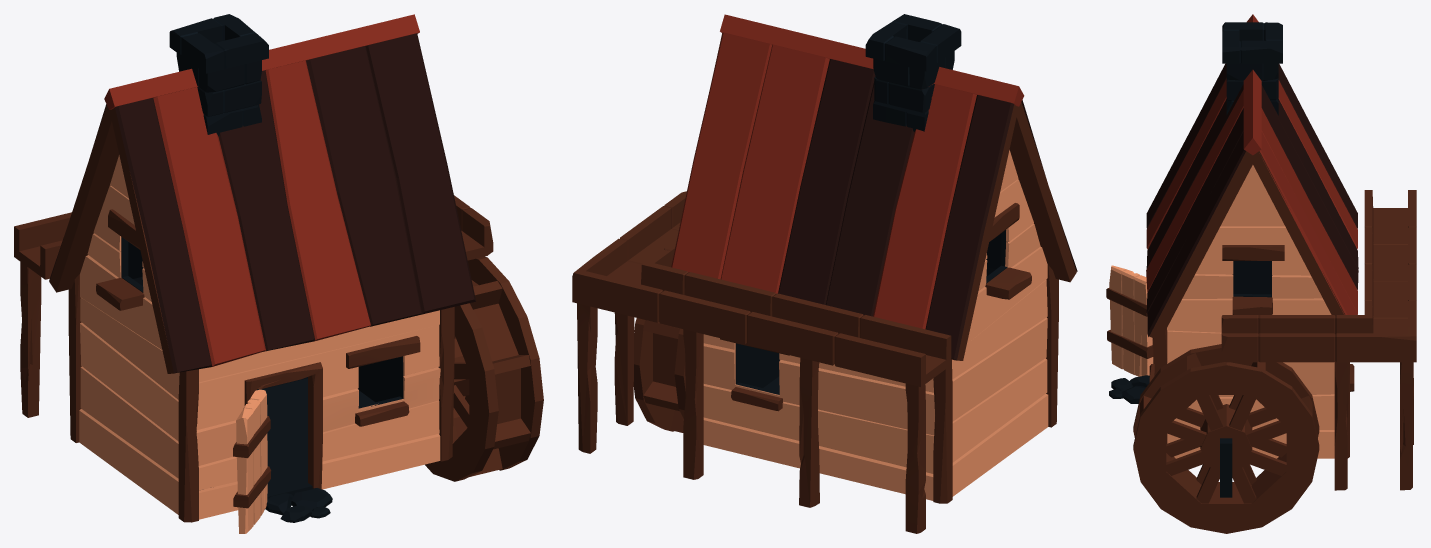
Rendered from Watermill.fbx.
3 views of the same model, side by side, from view 1: azimuth 30°, elevation 25°; view 2: azimuth 150°, elevation 25°; view 3: azimuth 270°, elevation 25° (orthographic). The views are drawn at different scales.
Visible parts, largest first — view 1: Watermill; view 2: Watermill; view 3: Watermill.
Part boxes in pixels (x1=…): Watermill: x1=14, y1=14, x2=543, y2=533; Watermill: x1=572, y1=14, x2=1077, y2=533; Watermill: x1=1106, y1=14, x2=1416, y2=533.
Size of the model in its own units: 176 by 210 by 149.
